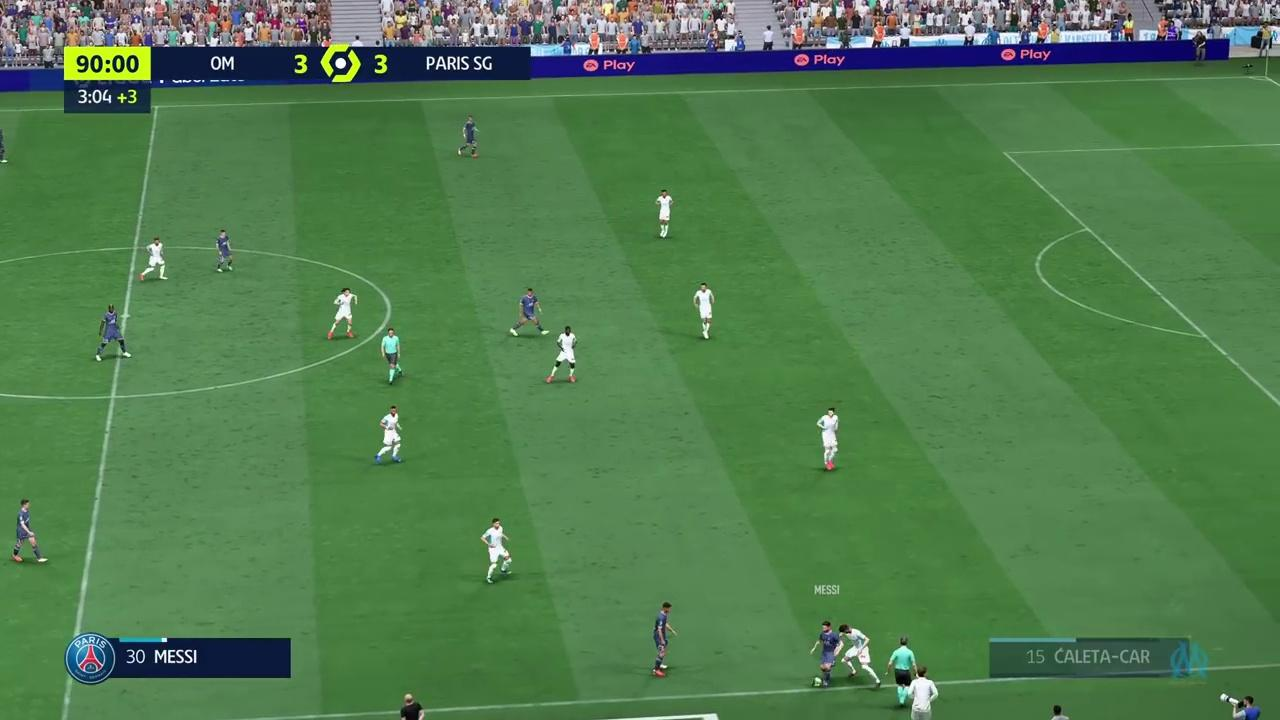scoreboard: (165, 42, 541, 86)
timestamp: (60, 42, 160, 118)
